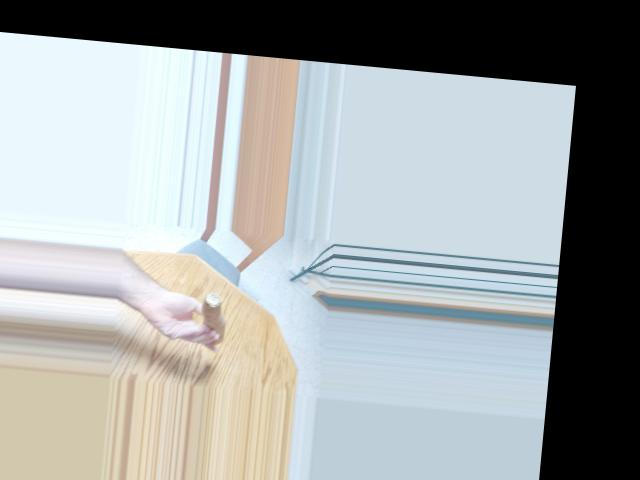sweet_potato: (185, 283, 231, 347)
